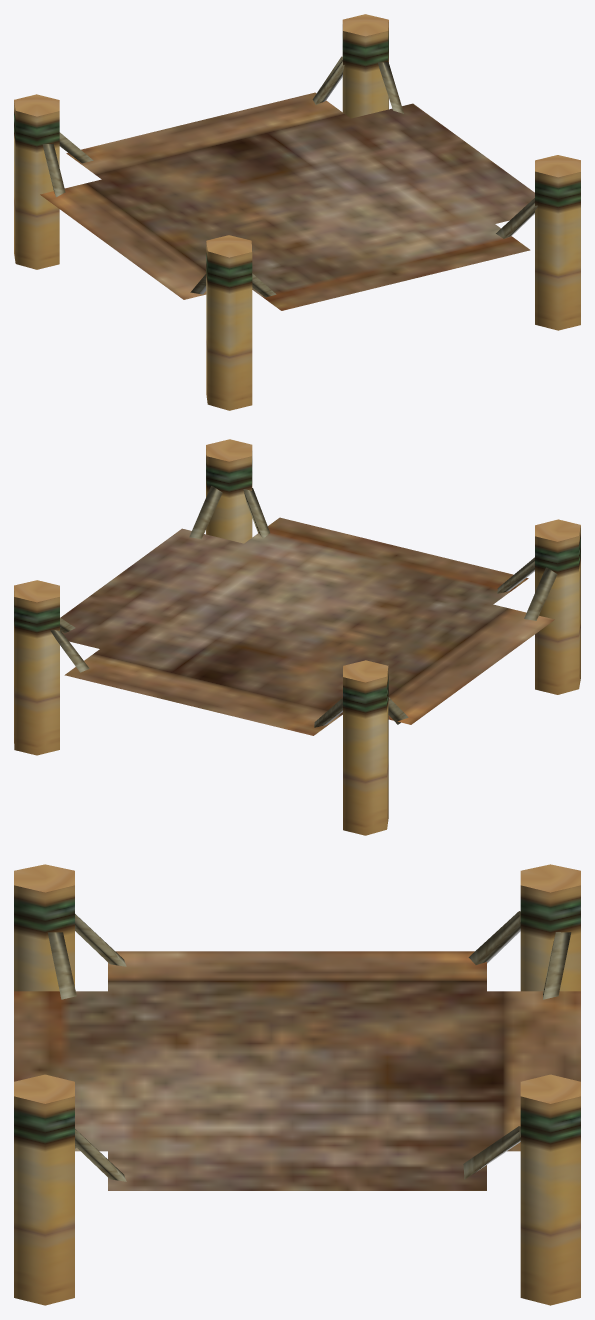
Rendered from jun_tile_crossroads.obj.
3 renders of one model, top to bottom at view 1: azimuth 30°, elevation 25°; view 2: azimuth 150°, elevation 25°; view 3: azimuth 270°, elevation 25°, orthographic. The views are drawn at different scales.
Parts seen in each view (by area): view 1: mid03; view 2: mid03; view 3: mid03.
Part boxes in pixels (x1,y1,x2,y2): mid03: (14,14,580,410); mid03: (14,439,580,835); mid03: (14,864,580,1305).
Size of the model in its own units: 1 by 0.3923 by 1.
Materials: 1 (1 with a texture image).
